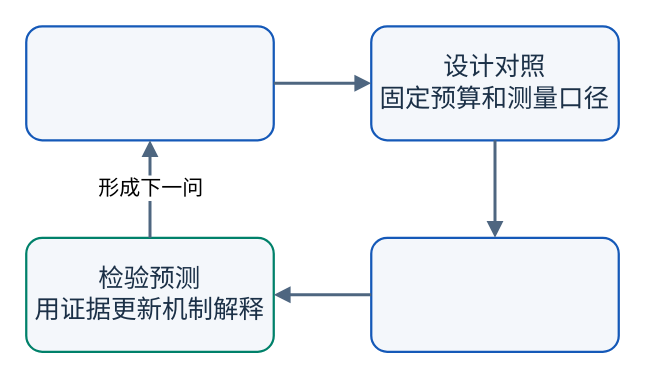
Image size: 647x380. Some labels were removed from this diagram. Here are the shapes that lost their labels. From the top down, the centre of each, then its label:
At point 149,82: "提出假设 写下排序和数量级".
At point 494,294: "运行实验 保存曲线和种子".
